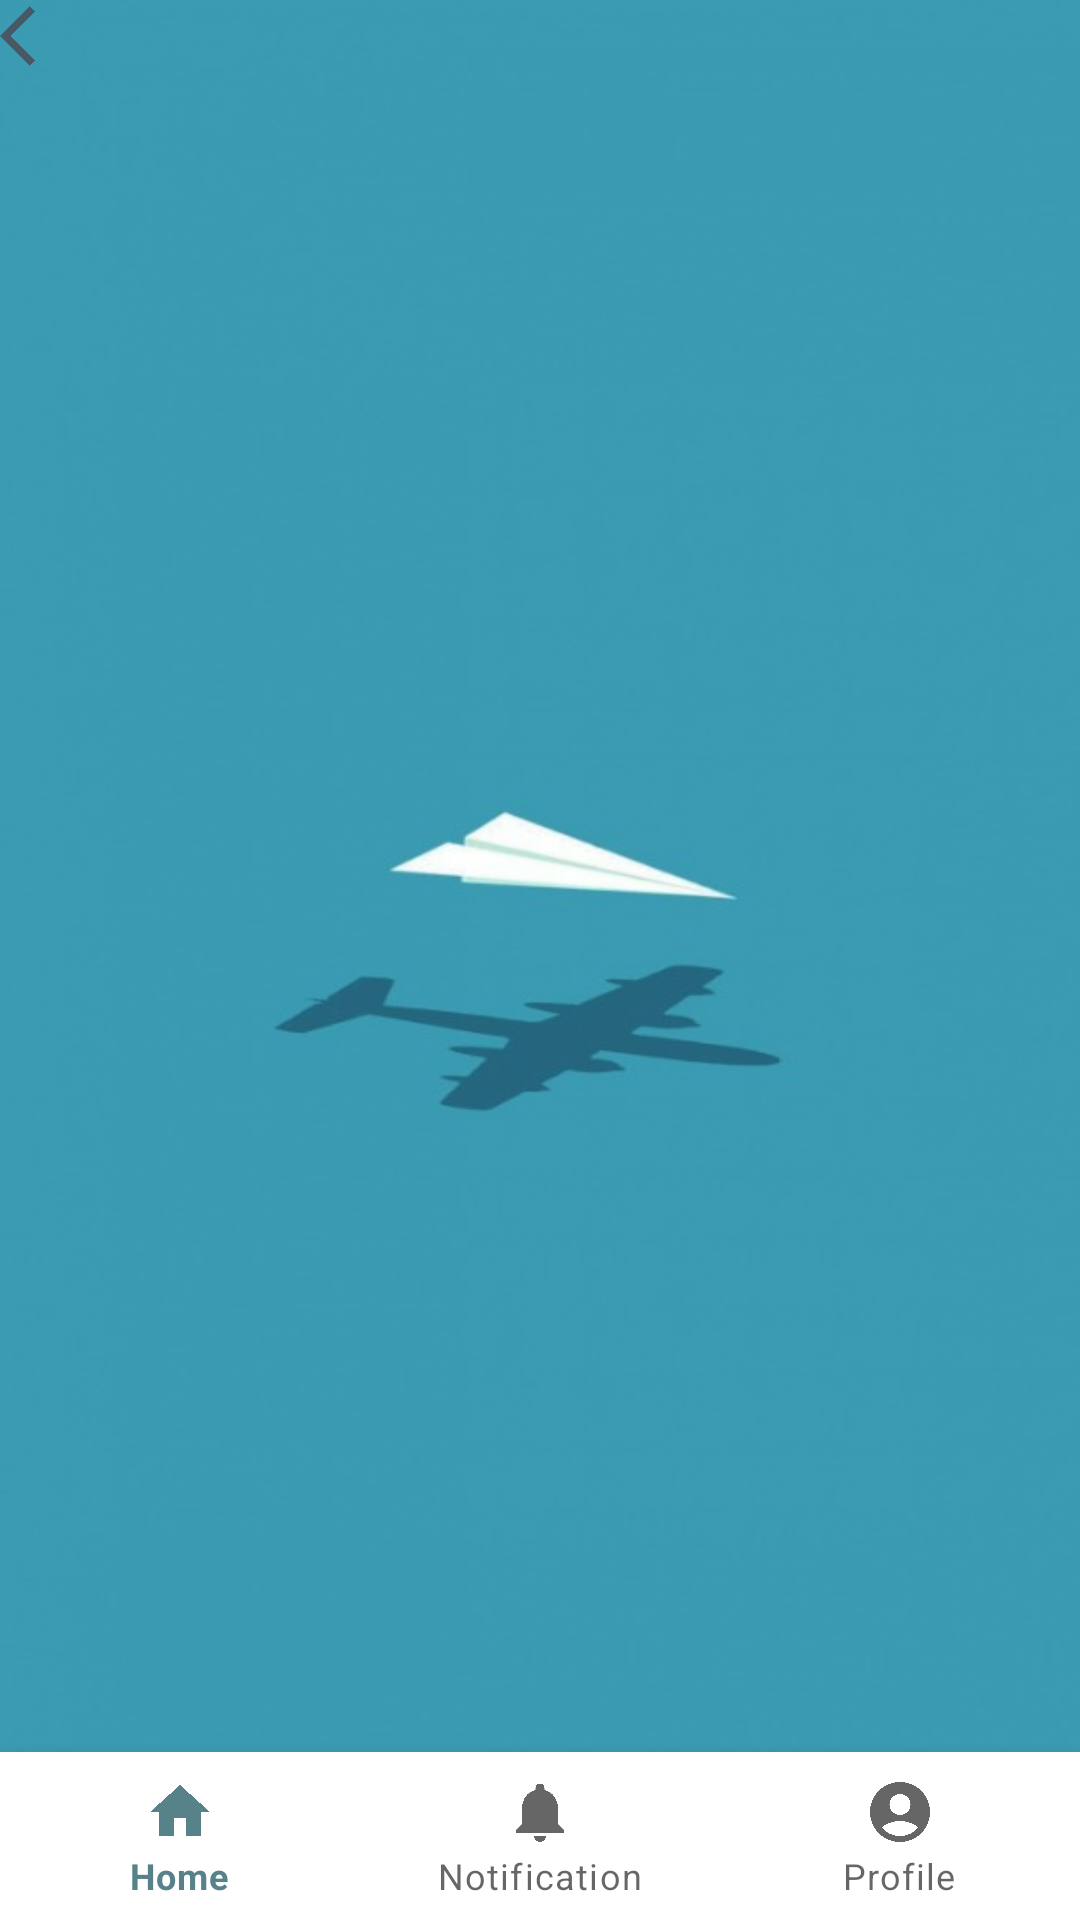

Icon bounding boxes for this 1080x1920 phone screenshot, format region(x1, y1, x2, y2):
arrow back: region(0, 6, 35, 66)
